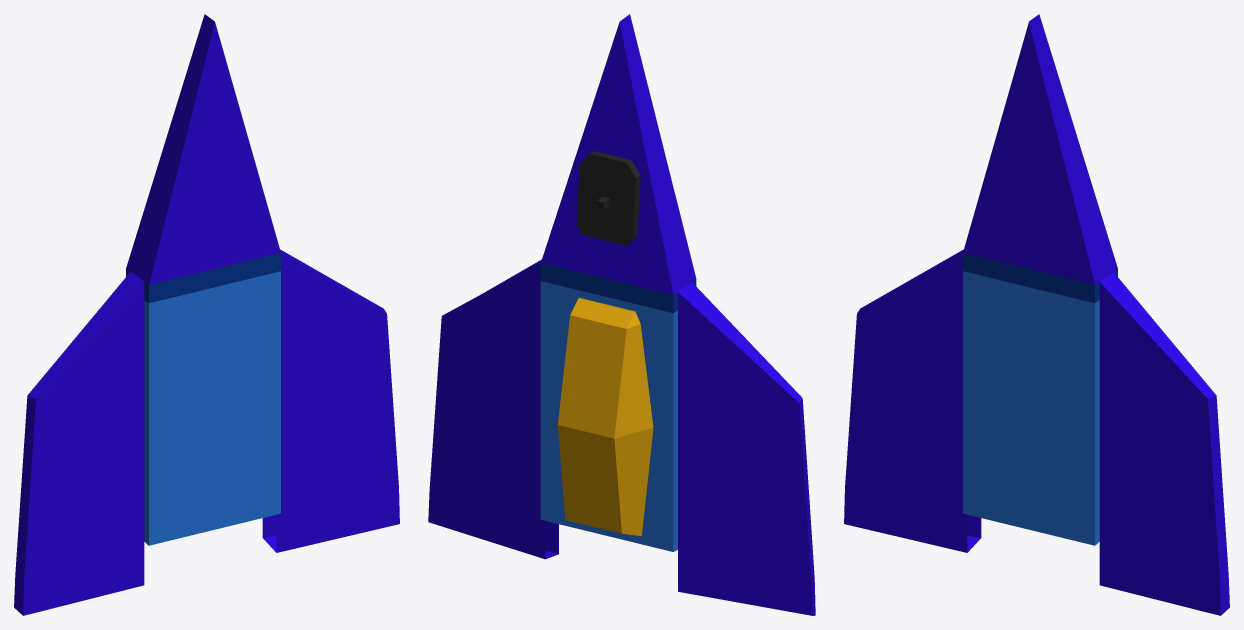
Rendered from Nave.fbx.
3 views of the same model, side by side, from view 1: azimuth 30°, elevation 25°; view 2: azimuth 150°, elevation 25°; view 3: azimuth 330°, elevation 25° (orthographic).
Visible parts, largest first — view 1: asaDireitaNave, trasNave, asaEsquerdaNave, bicoNave, intersecaoNave; view 2: asaDireitaNave, asaEsquerdaNave, vidroNave, bicoNave, trasNave, baseArma, intersecaoNave; view 3: asaEsquerdaNave, trasNave, asaDireitaNave, bicoNave, intersecaoNave.
Part boxes in pixels (x1=…): asaDireitaNave: x1=14, y1=271, x2=144, y2=615; trasNave: x1=144, y1=271, x2=280, y2=545; asaEsquerdaNave: x1=262, y1=249, x2=399, y2=552; bicoNave: x1=126, y1=14, x2=280, y2=284; intersecaoNave: x1=126, y1=253, x2=280, y2=303; asaDireitaNave: x1=678, y1=282, x2=815, y2=615; asaEsquerdaNave: x1=428, y1=259, x2=558, y2=559; vidroNave: x1=557, y1=298, x2=653, y2=536; bicoNave: x1=541, y1=14, x2=696, y2=294; trasNave: x1=540, y1=281, x2=677, y2=551; baseArma: x1=576, y1=151, x2=640, y2=245; intersecaoNave: x1=540, y1=263, x2=696, y2=313; asaEsquerdaNave: x1=1099, y1=271, x2=1229, y2=615; trasNave: x1=963, y1=271, x2=1099, y2=545; asaDireitaNave: x1=844, y1=249, x2=981, y2=552; bicoNave: x1=963, y1=14, x2=1117, y2=284; intersecaoNave: x1=963, y1=253, x2=1117, y2=303.
Bounding box in the file's own units: 213 × 293 × 42.21.
